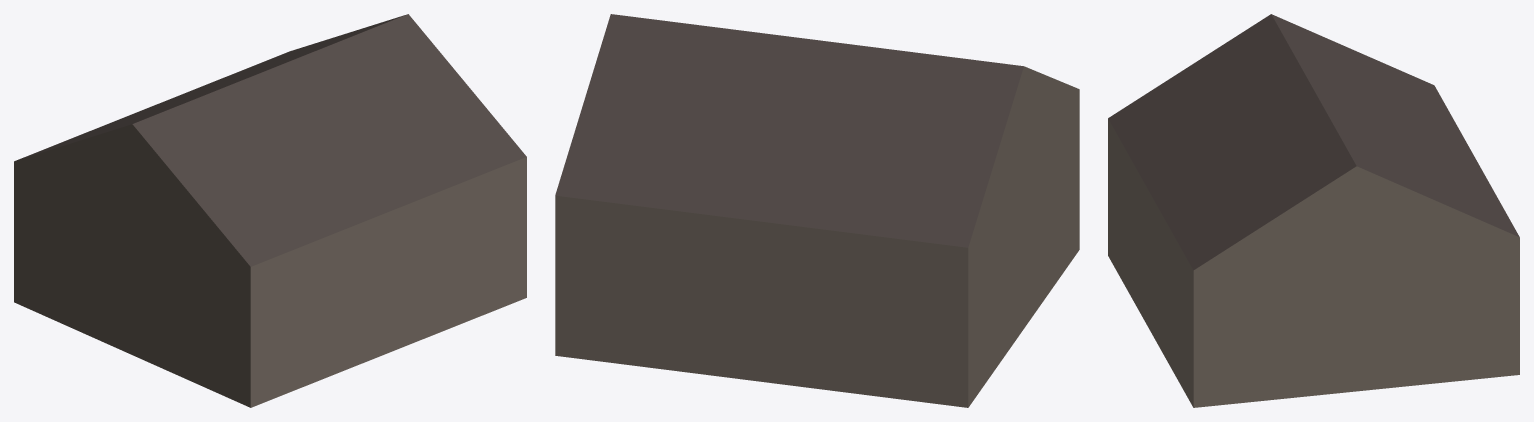
The picture shows the model from 3 angles, left to right: view 1: azimuth 30°, elevation 25°; view 2: azimuth 150°, elevation 25°; view 3: azimuth 270°, elevation 25°; orthographic projection. The views are drawn at different scales.
Visible parts, largest first — view 1: HP-w446937283; view 2: HP-w446937283; view 3: HP-w446937283.
Part boxes in pixels (<box>): HP-w446937283: <box>14,14,526,407</box>; HP-w446937283: <box>555,14,1079,407</box>; HP-w446937283: <box>1108,14,1519,407</box>.
Bounding box in the file's own units: 17.34 × 9.83 × 16.3.
